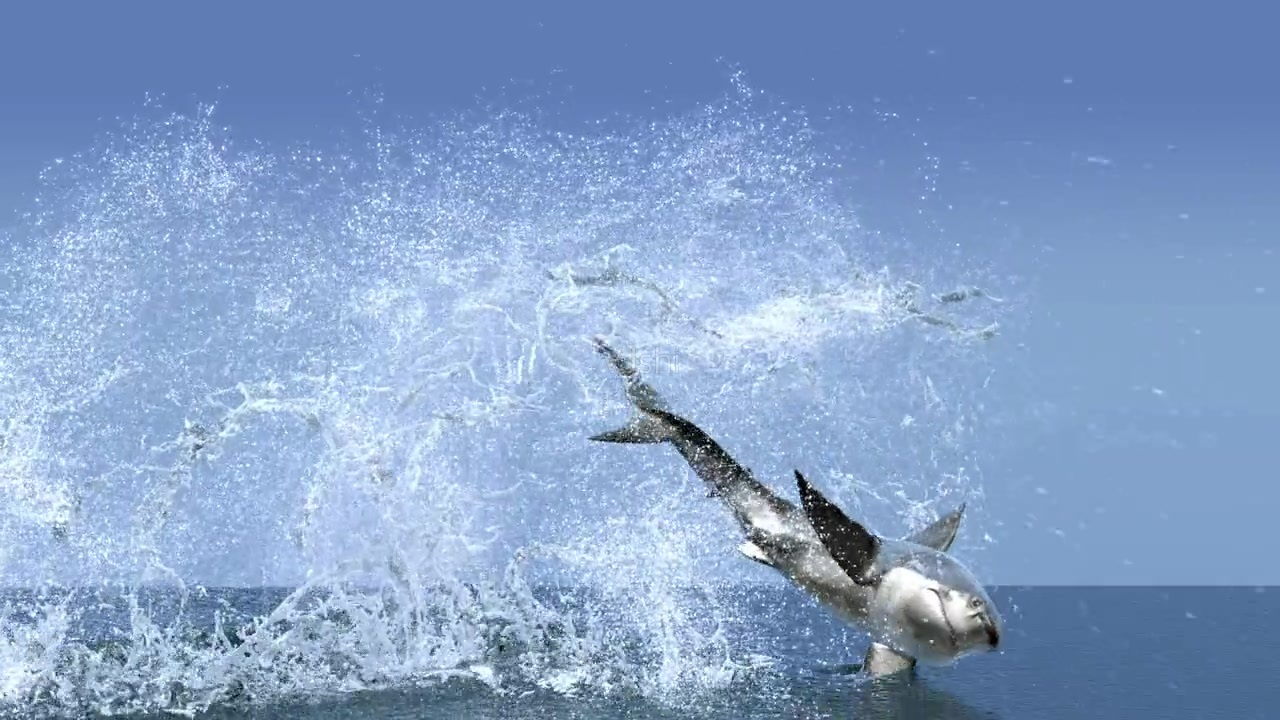fish: (581, 350, 1002, 694)
